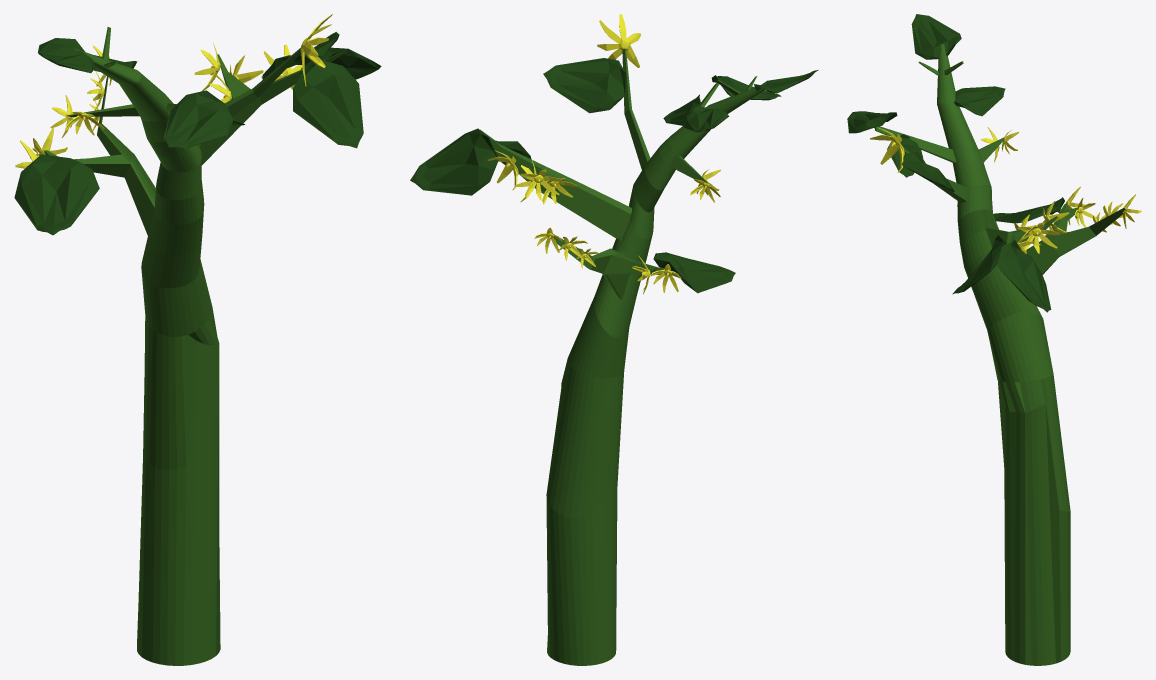
Rendered from tomato_with_flowers.fbx.
3 renders of one model, left to right at view 1: azimuth 30°, elevation 25°; view 2: azimuth 150°, elevation 25°; view 3: azimuth 270°, elevation 25°, orthographic. The views are drawn at different scales.
Parts seen in each view (by area): view 1: Cylinder, Icosphere.001, Sphere.001; view 2: Cylinder, Icosphere.001, Sphere.001; view 3: Cylinder, Icosphere.001, Sphere.001.
Boxes of the visible parts, x1,y1,x2,y2 form: Cylinder: (44,27,346,665); Icosphere.001: (14,32,381,235); Sphere.001: (15,14,332,168); Cylinder: (480,48,767,665); Icosphere.001: (410,58,818,293); Sphere.001: (487,14,720,294); Cylinder: (874,44,1126,665); Icosphere.001: (847,14,1064,312); Sphere.001: (870,127,1141,254).
Size of the model in its own units: 350 by 567 by 272.
